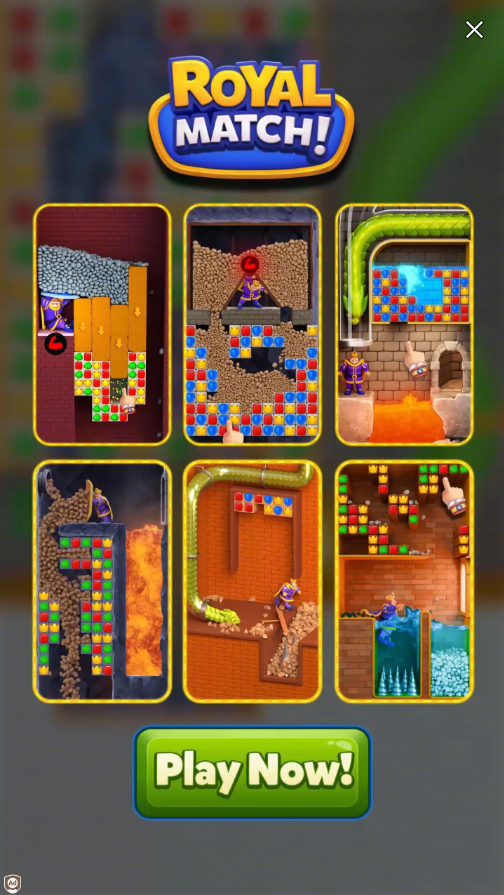close_button: (465, 20, 485, 40)
